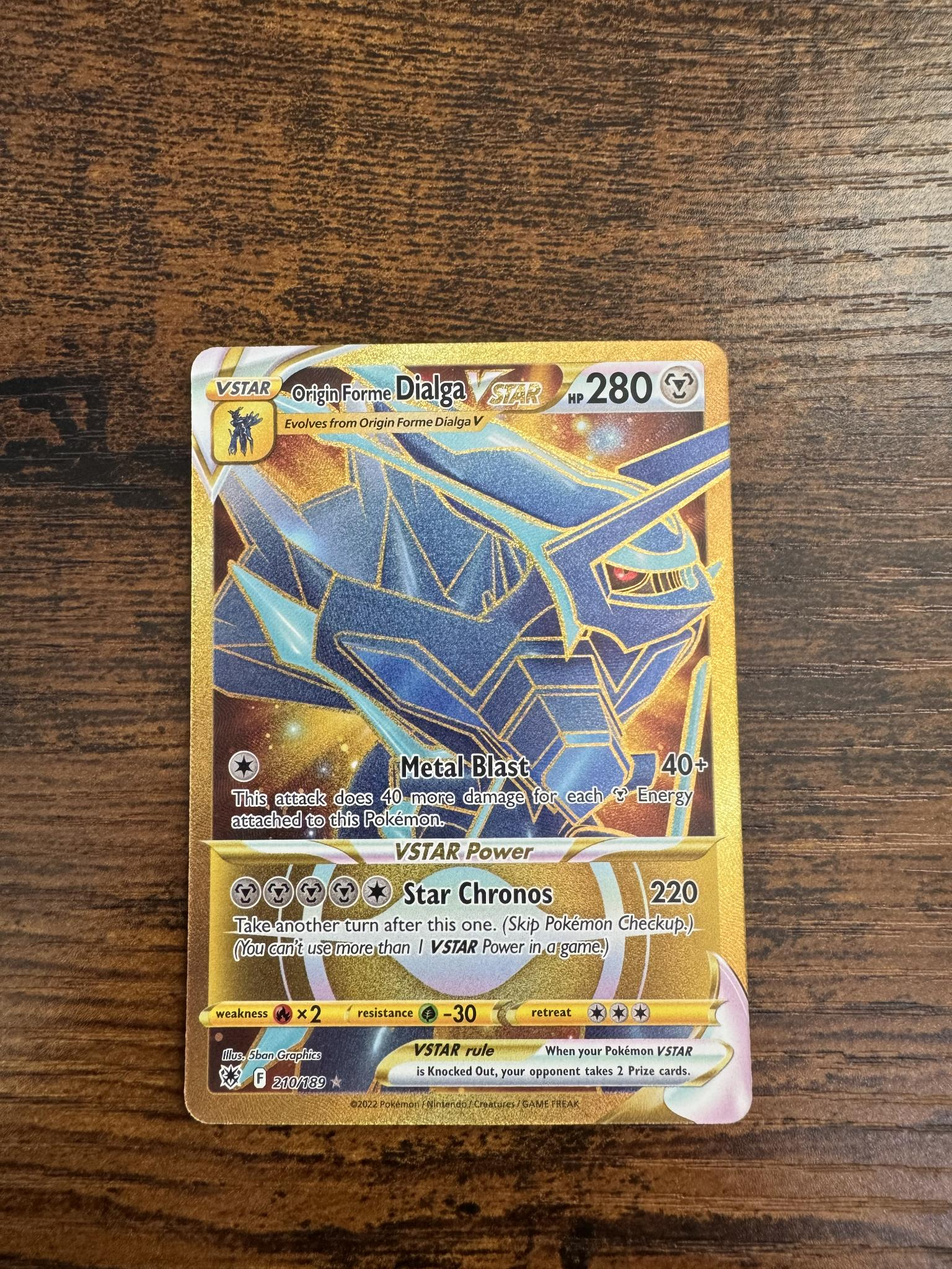card-2UtV: (184, 340, 752, 1125)
